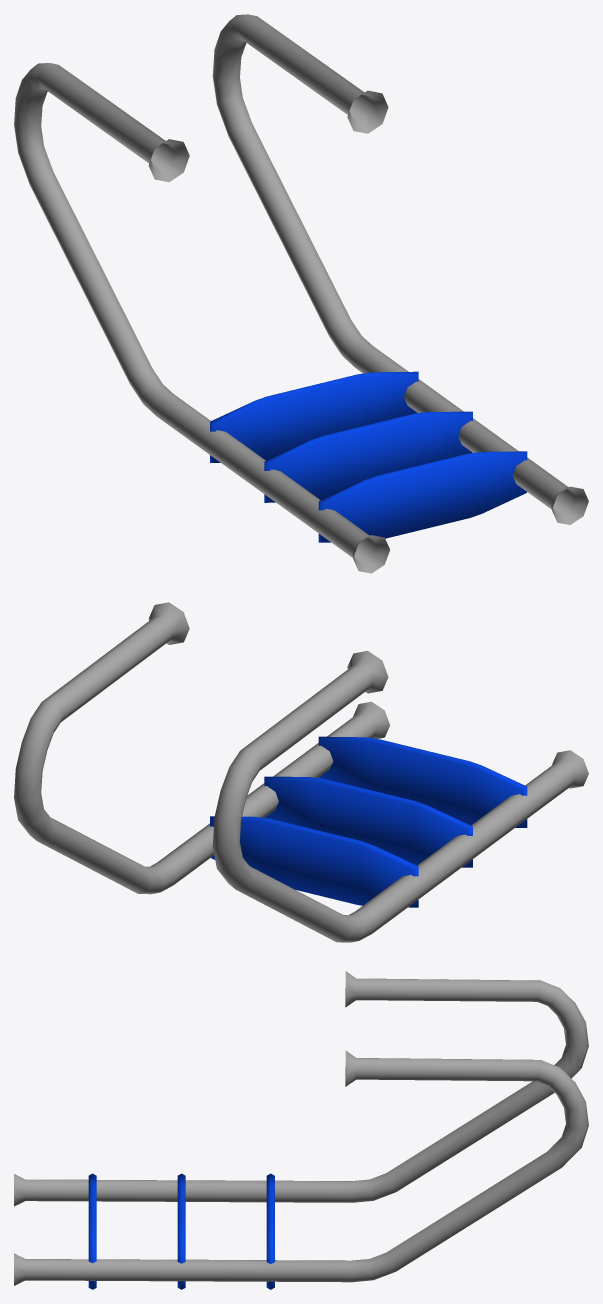
The model's file is Ladder02.fbx.
The picture shows the model from 3 angles, top to bottom: view 1: azimuth 30°, elevation 25°; view 2: azimuth 150°, elevation 25°; view 3: azimuth 270°, elevation 25°; orthographic projection. The views are drawn at different scales.
Parts seen in each view (by area): view 1: Ladder02; view 2: Ladder02; view 3: Ladder02.
Part boxes in pixels (x1=…): Ladder02: x1=14, y1=14, x2=588, y2=573; Ladder02: x1=14, y1=602, x2=588, y2=942; Ladder02: x1=14, y1=971, x2=588, y2=1289.
Size of the model in its own units: 83.01 by 99.63 by 210.
